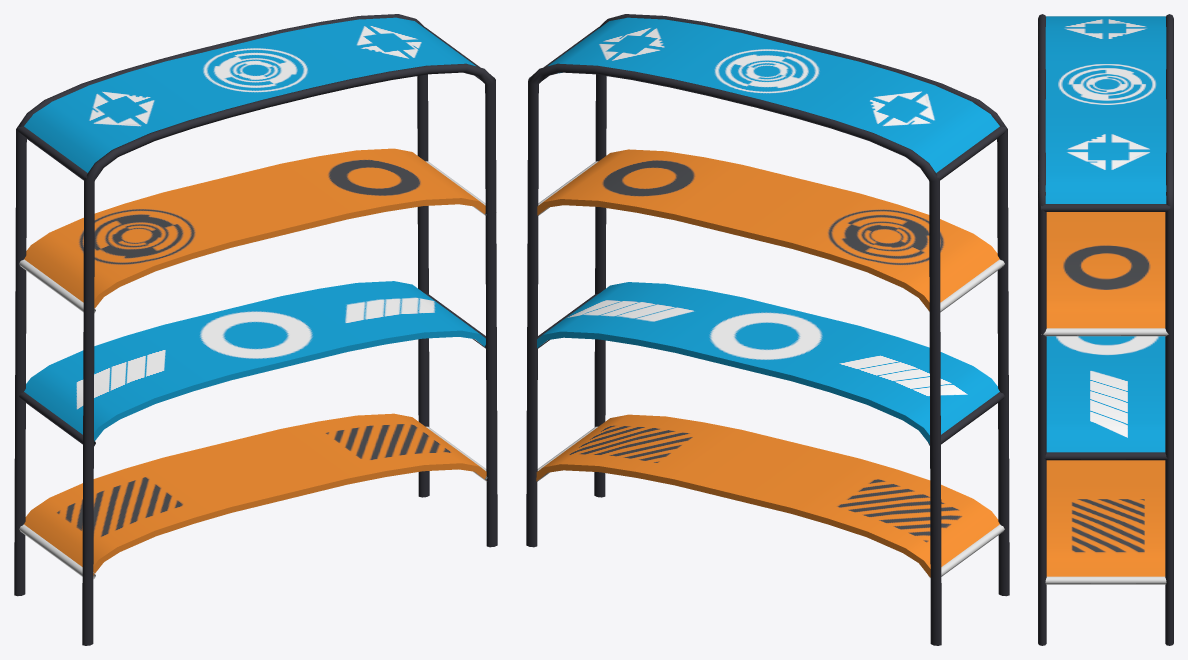
Rendered from Mesh_Resto_etagere.fbx.
3 views of the same model, side by side, from view 1: azimuth 30°, elevation 25°; view 2: azimuth 150°, elevation 25°; view 3: azimuth 270°, elevation 25° (orthographic). The views are drawn at different scales.
Visible parts, largest first — view 1: etagere; view 2: etagere; view 3: etagere.
Boxes of the visible parts, x1,y1,x2,y2 form: etagere: (14,14,497,645); etagere: (526,14,1009,645); etagere: (1038,14,1173,645).
Bounding box in the file's own units: 78.77 × 90.81 × 23.86.
